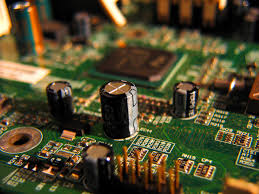capacitor: (94, 73, 145, 144), (44, 74, 77, 122), (169, 76, 203, 119)
